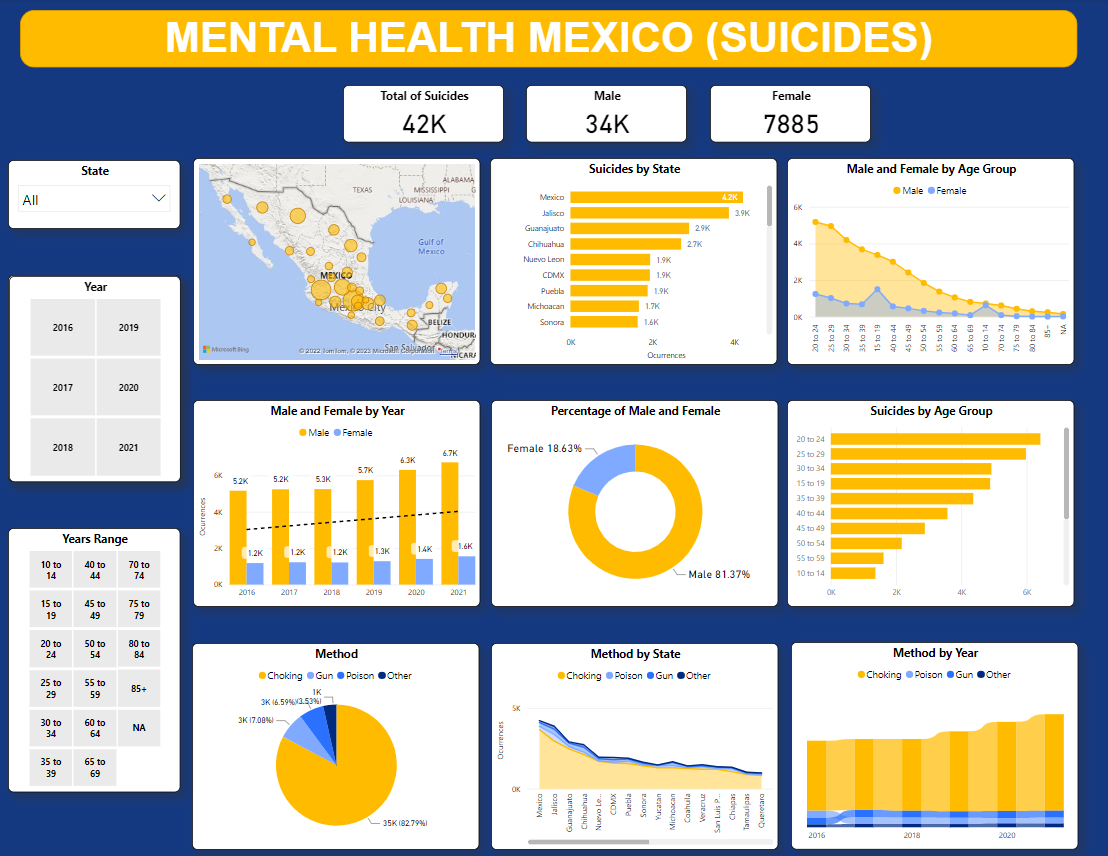

This screenshot's page, from the dashboard's own definition file:
{"tool":"powerbi","page":{"name":"Page 1","canvas":[1550,1200],"ordinal":0},"visuals":[{"type":"slicer","title":"State","fields":{"Values":["Table1.State"]},"box":[16,224,240,96],"z":0},{"type":"clusteredBarChart","title":"Suicides by State","fields":{"Category":["Table1.State"],"Y":["Sum(Table1.Total)"]},"box":[686.3,221.7,400,288],"z":1000},{"type":"slicer","title":"Year","fields":{"Values":["Table1.Year"]},"box":[16,384,240,288],"z":2000},{"type":"lineClusteredColumnComboChart","title":"Male and Female by Year","fields":{"Category":["Table1.Year.Variation.Date Hierarchy.Year"],"Y":["Sum(Table1.Male)","Sum(Table1.Female)"]},"box":[272.3,557.7,400,288],"z":3000},{"type":"donutChart","title":"Percentage of Male and Female","fields":{"Y":["Sum(Table1.Male)","Sum(Table1.Female)"]},"box":[688.3,557.7,400,288],"z":4000},{"type":"map","fields":{"Category":["Table2.State"],"Size":["Sum(Table1.Total)"]},"box":[272.3,221.7,400,288],"z":5000},{"type":"pieChart","title":"Method","fields":{"Y":["Sum(Table2.Choking)","Sum(Table2.Gun)","Sum(Table2.Poison)","Sum(Table2.Other)"]},"box":[272,896,400,288],"z":6000},{"type":"card","title":"Total of Suicides","fields":{"Values":["Sum(Table1.Total)"]},"box":[481,120,224,80],"z":7000},{"type":"areaChart","title":"Male and Female by Age Group","fields":{"Y":["Sum(Table1.Male)","Sum(Table1.Female)"],"Category":["Table1.Years Range"]},"box":[1100.3,221.7,400,288],"z":8000},{"type":"slicer","title":"Years Range","fields":{"Values":["Table1.Years Range"]},"box":[16,736,240,368],"z":9000},{"type":"shape","box":[32,16,1472,80],"z":10000},{"type":"textbox","box":[224,16,1088,96],"z":11000},{"type":"clusteredBarChart","title":"Suicides by Age Group","fields":{"Category":["Table1.Years Range"],"Y":["Sum(Table1.Total)"]},"box":[1100.3,557.7,400,288],"z":12000},{"type":"card","title":"Male","fields":{"Values":["Sum(Table1.Male)"]},"box":[737,120,224,80],"z":13000},{"type":"card","title":"Female","fields":{"Values":["Sum(Table1.Female)"]},"box":[993,120,224,80],"z":14000},{"type":"ribbonChart","title":"Method by Year","fields":{"Y":["Sum(Table2.Choking)","Sum(Table2.Poison)","Sum(Table2.Gun)","Sum(Table2.Other)"],"Category":["Table2.Year.Variation.Date Hierarchy.Year"]},"box":[1105.6,895.6,400,288.9],"z":15000},{"type":"stackedAreaChart","title":"Method by State","fields":{"Category":["Table2.State"],"Y":["Sum(Table2.Choking)","Sum(Table2.Poison)","Sum(Table2.Gun)","Sum(Table2.Other)"]},"box":[688,896,400,288],"z":16000},{"type":"slicer","title":"Year","fields":{"Values":["Table2.Year"]},"box":[16.3,385.7,239.4,286.7],"z":16001}]}

Visuals, with their boxes in screenshot pixels (x1, y1, x2, y2), scaled from the page's 1550x1200 canvas onto the 1108x856 screenshot:
"State" slicer: pyautogui.locateOnScreen(11, 160, 183, 228)
"Suicides by State" clusteredBarChart: pyautogui.locateOnScreen(491, 158, 777, 364)
"Year" slicer: pyautogui.locateOnScreen(11, 274, 183, 479)
"Male and Female by Year" lineClusteredColumnComboChart: pyautogui.locateOnScreen(195, 398, 481, 603)
"Percentage of Male and Female" donutChart: pyautogui.locateOnScreen(492, 398, 778, 603)
map - Table2.State x Sum(Table1.Total): pyautogui.locateOnScreen(195, 158, 481, 364)
"Method" pieChart: pyautogui.locateOnScreen(194, 639, 480, 845)
"Total of Suicides" card: pyautogui.locateOnScreen(344, 86, 504, 143)
"Male and Female by Age Group" areaChart: pyautogui.locateOnScreen(787, 158, 1072, 364)
"Years Range" slicer: pyautogui.locateOnScreen(11, 525, 183, 788)
shape: pyautogui.locateOnScreen(23, 11, 1075, 68)
textbox: pyautogui.locateOnScreen(160, 11, 938, 80)
"Suicides by Age Group" clusteredBarChart: pyautogui.locateOnScreen(787, 398, 1072, 603)
"Male" card: pyautogui.locateOnScreen(527, 86, 687, 143)
"Female" card: pyautogui.locateOnScreen(710, 86, 870, 143)
"Method by Year" ribbonChart: pyautogui.locateOnScreen(790, 639, 1076, 845)
"Method by State" stackedAreaChart: pyautogui.locateOnScreen(492, 639, 778, 845)
"Year" slicer: pyautogui.locateOnScreen(12, 275, 183, 480)
